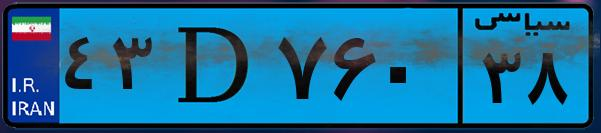0: (385, 28, 445, 110)
3: (475, 38, 525, 113), (110, 28, 158, 98)
4: (57, 26, 110, 100)
6: (330, 28, 385, 110)
7: (270, 28, 330, 110)
8: (525, 38, 570, 115)
D: (158, 12, 270, 120)
